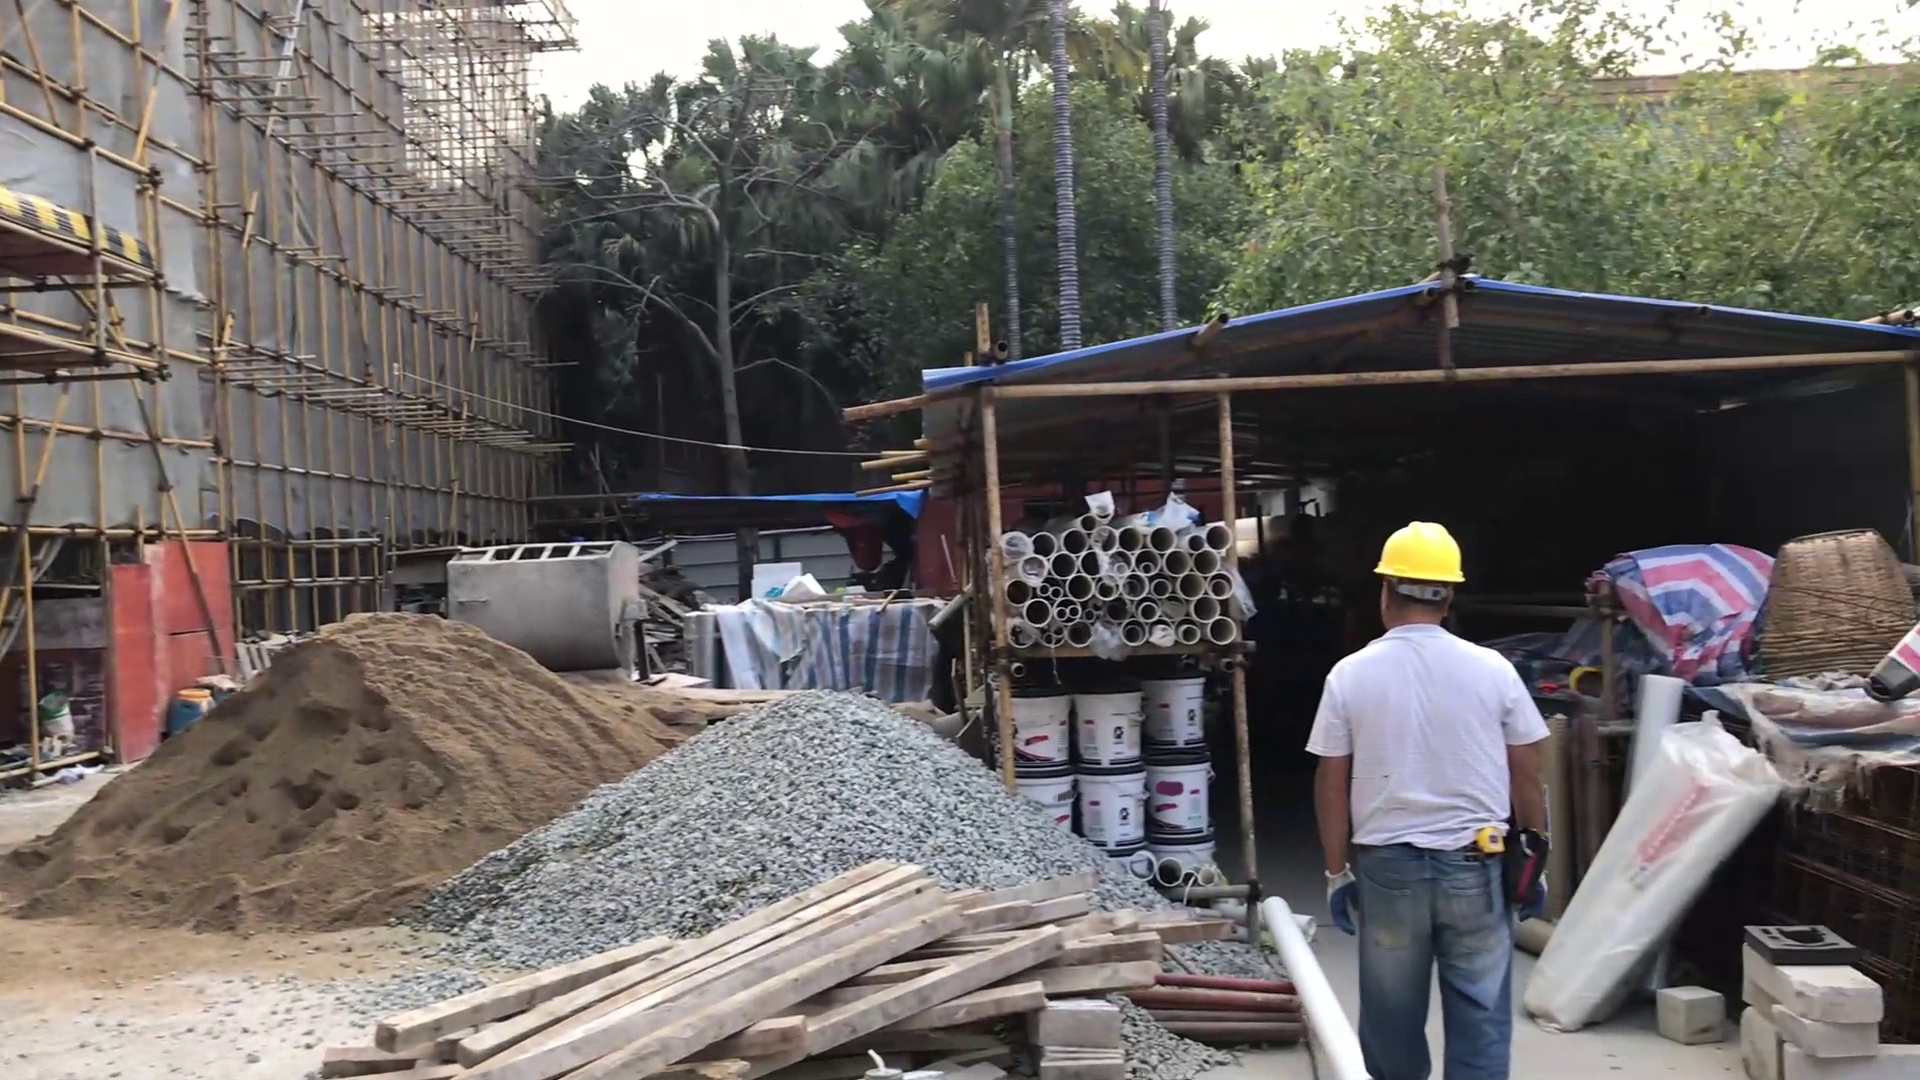helmet: (1360, 502, 1478, 595)
person: (1303, 490, 1571, 1080)
